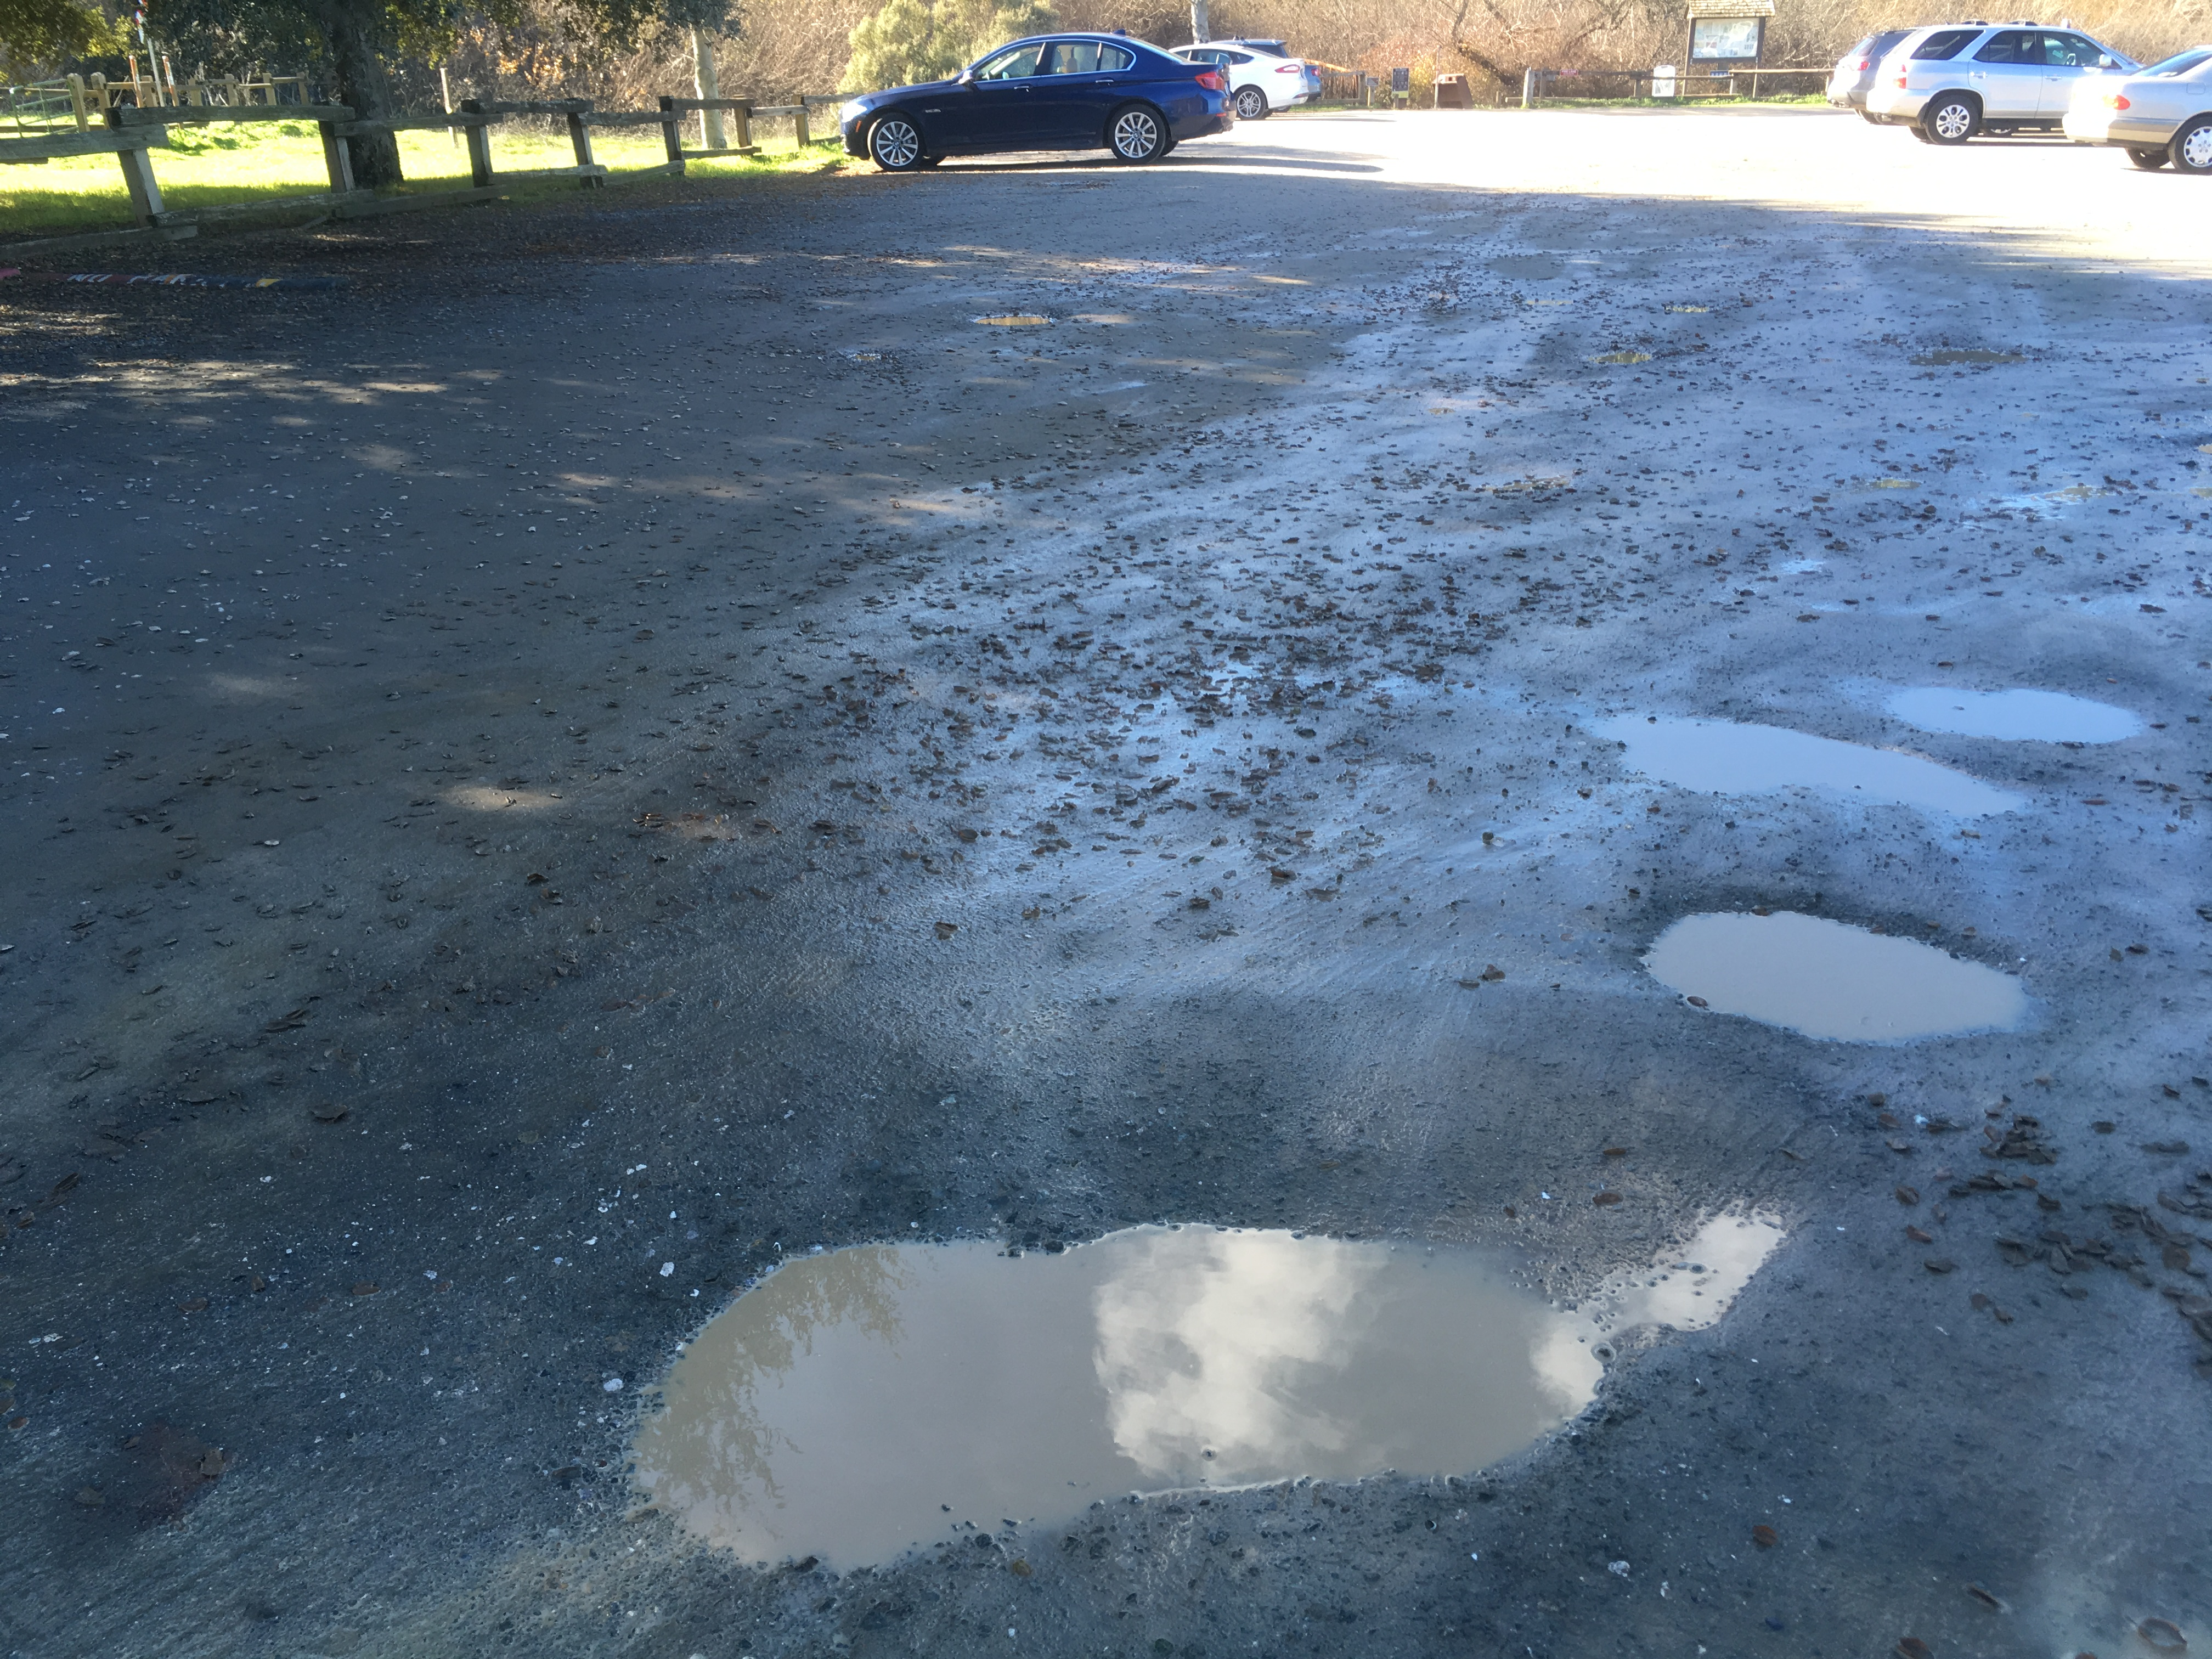water: (526, 1053, 1796, 1638), (1656, 864, 2102, 1100), (1573, 671, 2085, 847), (1865, 653, 2172, 763)
